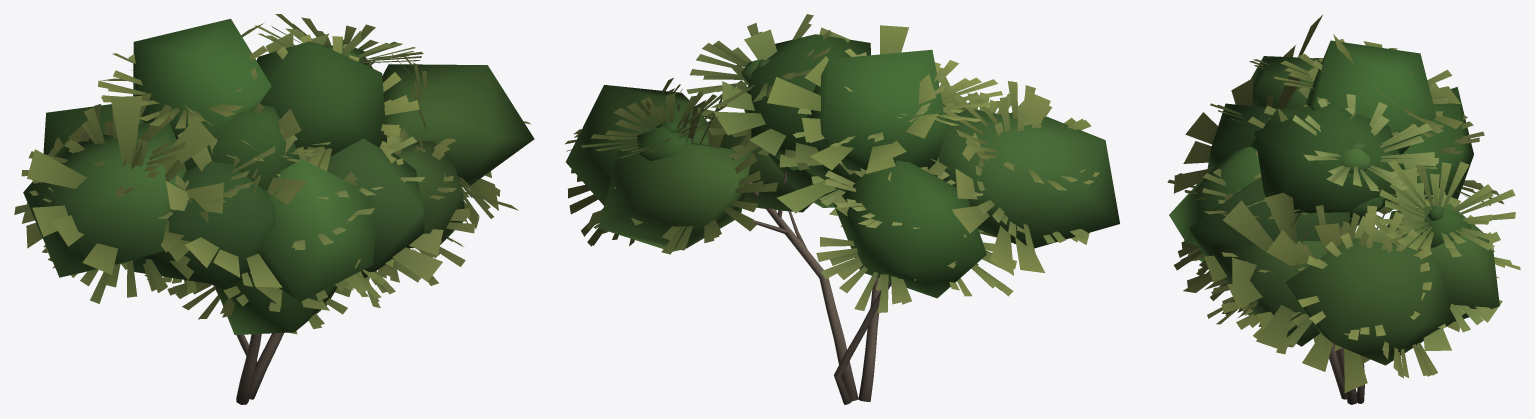
The model's file is pandanus.glb.
3 renders of one model, left to right at view 1: azimuth 30°, elevation 25°; view 2: azimuth 150°, elevation 25°; view 3: azimuth 270°, elevation 25°, orthographic. The views are drawn at different scales.
Parts seen in each view (by area): view 1: pandanus-lo, pandanus; view 2: pandanus-lo, pandanus; view 3: pandanus-lo, pandanus.
Boxes of the visible parts, x1,y1,x2,y2 form: pandanus-lo: (22, 18, 534, 404); pandanus: (14, 14, 530, 404); pandanus-lo: (566, 25, 1119, 404); pandanus: (565, 14, 1099, 404); pandanus-lo: (1169, 15, 1502, 404); pandanus: (1167, 39, 1520, 404).
Bounding box in the file's own units: 11.19 × 7.78 × 7.15.
